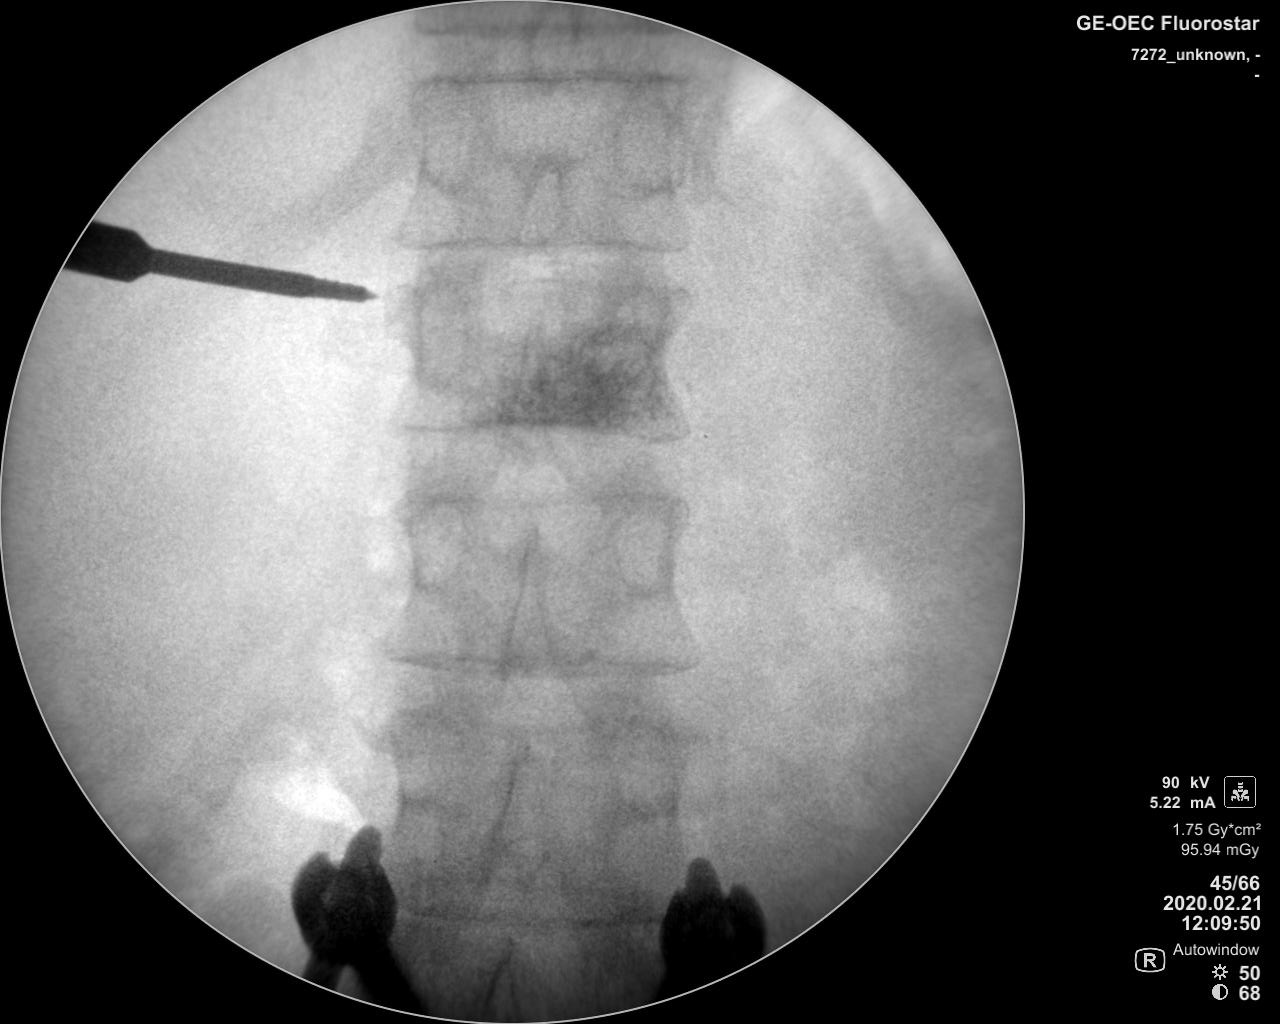eyes: (372, 715, 467, 813), (604, 715, 689, 817), (615, 77, 689, 195), (408, 87, 481, 193), (403, 282, 467, 400), (391, 497, 469, 588), (610, 501, 681, 596)
line: (372, 474, 696, 522), (377, 643, 698, 685), (396, 891, 658, 940), (374, 413, 703, 451), (381, 224, 703, 259), (402, 62, 692, 95), (411, 18, 677, 48)
nose: (501, 518, 561, 700), (492, 736, 548, 897), (503, 328, 554, 478), (511, 150, 569, 250), (528, 4, 578, 96)
